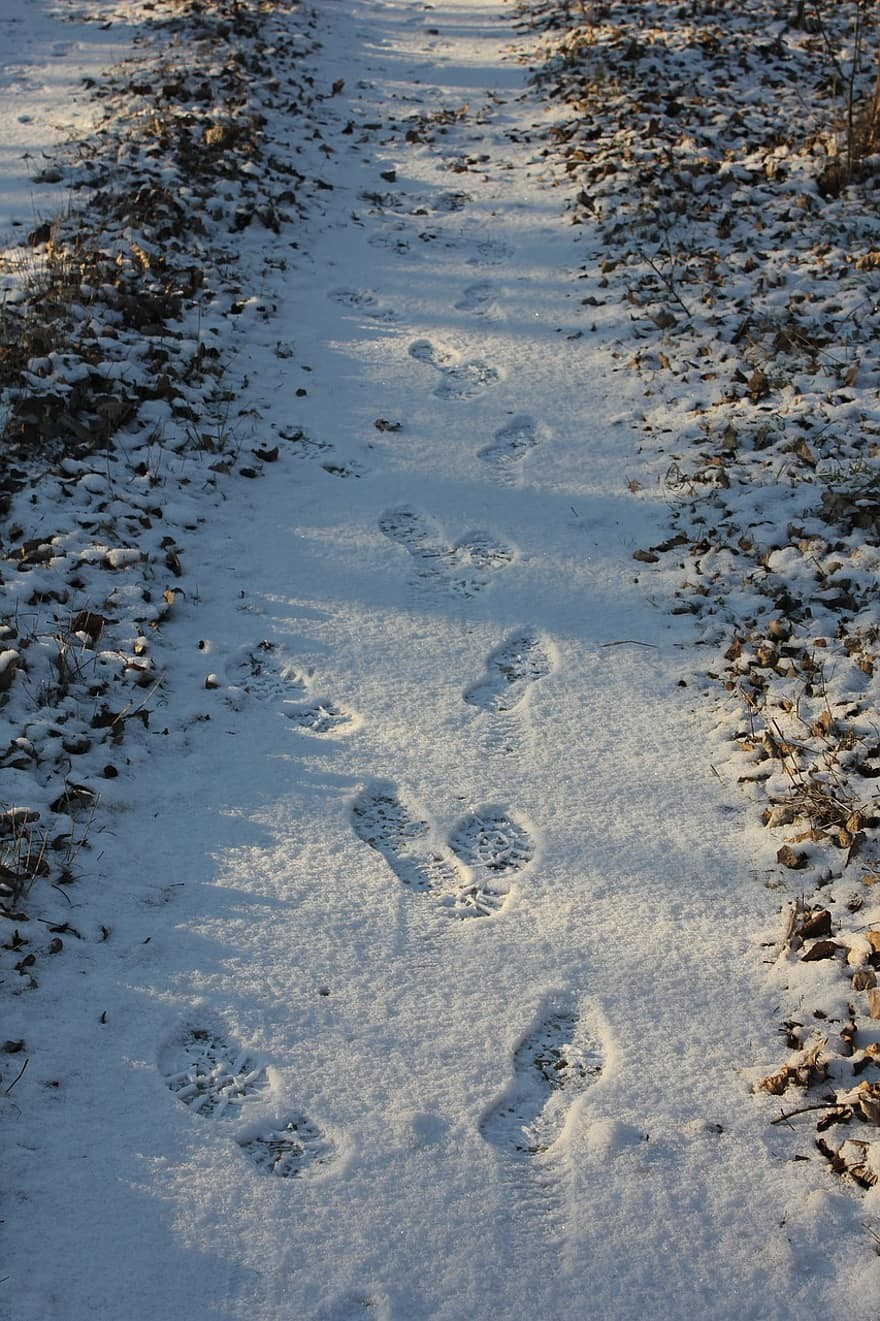human_foot_print: (146, 974, 359, 1213), (470, 977, 627, 1184), (325, 764, 453, 915), (323, 762, 451, 913), (227, 637, 360, 744), (445, 619, 577, 724), (479, 796, 555, 936), (481, 405, 555, 491), (379, 505, 446, 572)
